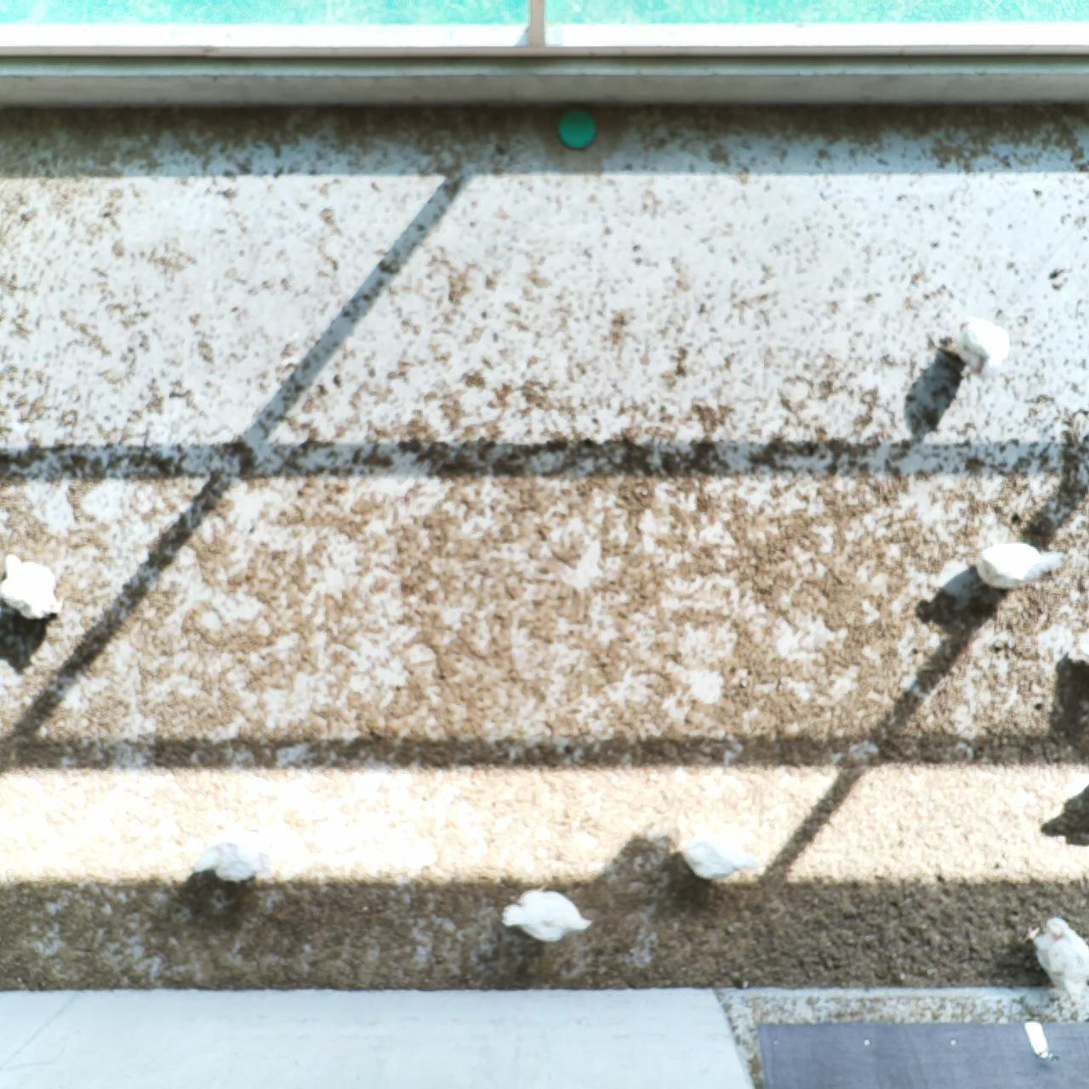chicken: (1017, 906, 1089, 997), (669, 823, 763, 884), (500, 882, 592, 944), (972, 540, 1070, 595), (0, 555, 68, 625), (934, 314, 1014, 372)
